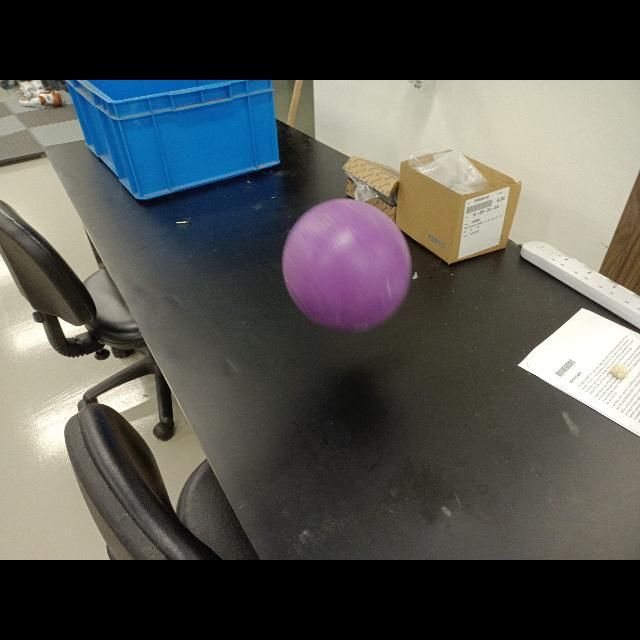P: (282, 197, 412, 335)
